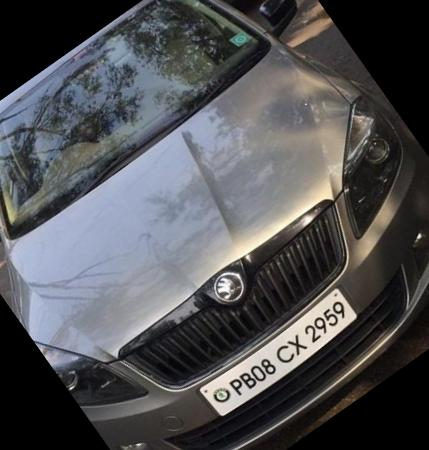plate: (176, 263, 387, 442)
